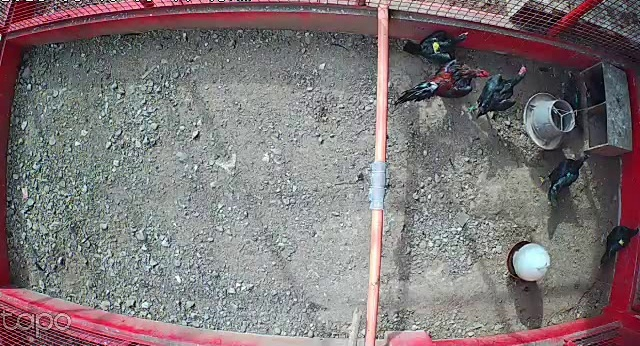Chicken: (467, 60, 532, 121), (536, 150, 592, 208), (399, 28, 471, 62), (599, 220, 640, 268)
Rooster: (392, 56, 493, 108)
Saddle_Color_Yellow: (430, 40, 443, 55)
Saddle_Color_YellowGreen: (619, 236, 627, 245)
